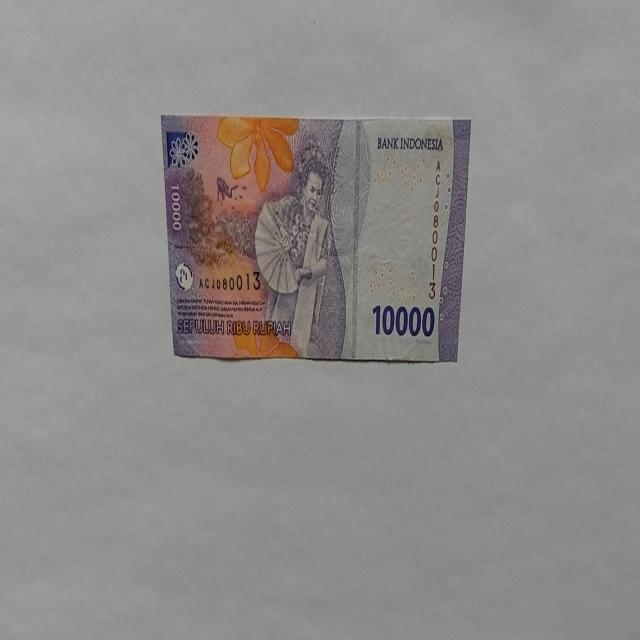sepuluh ribu rupiah: (160, 112, 470, 364)
